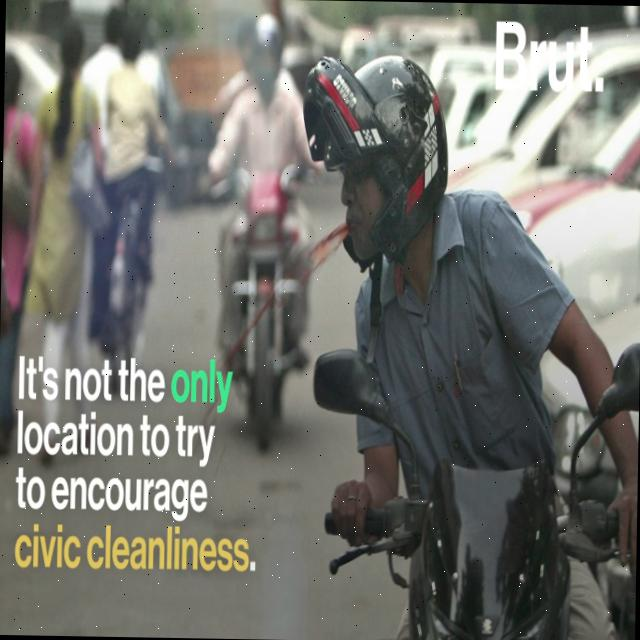spit: (182, 197, 377, 460)
